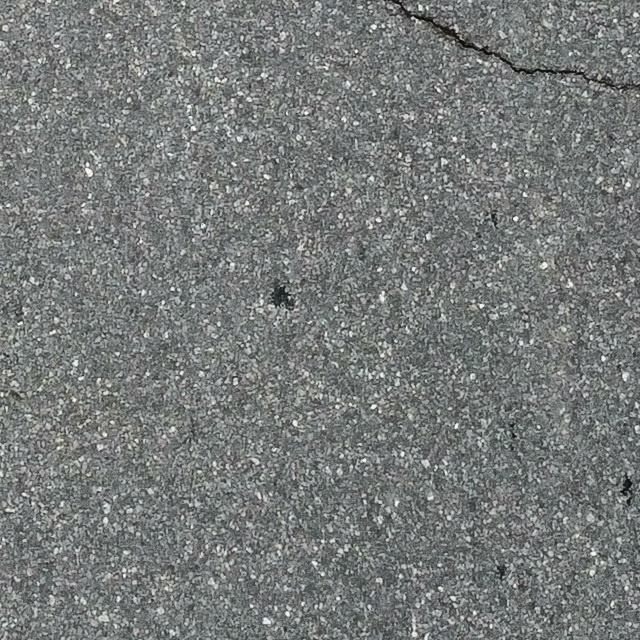TransverseCrack: (395, 1, 640, 91)
